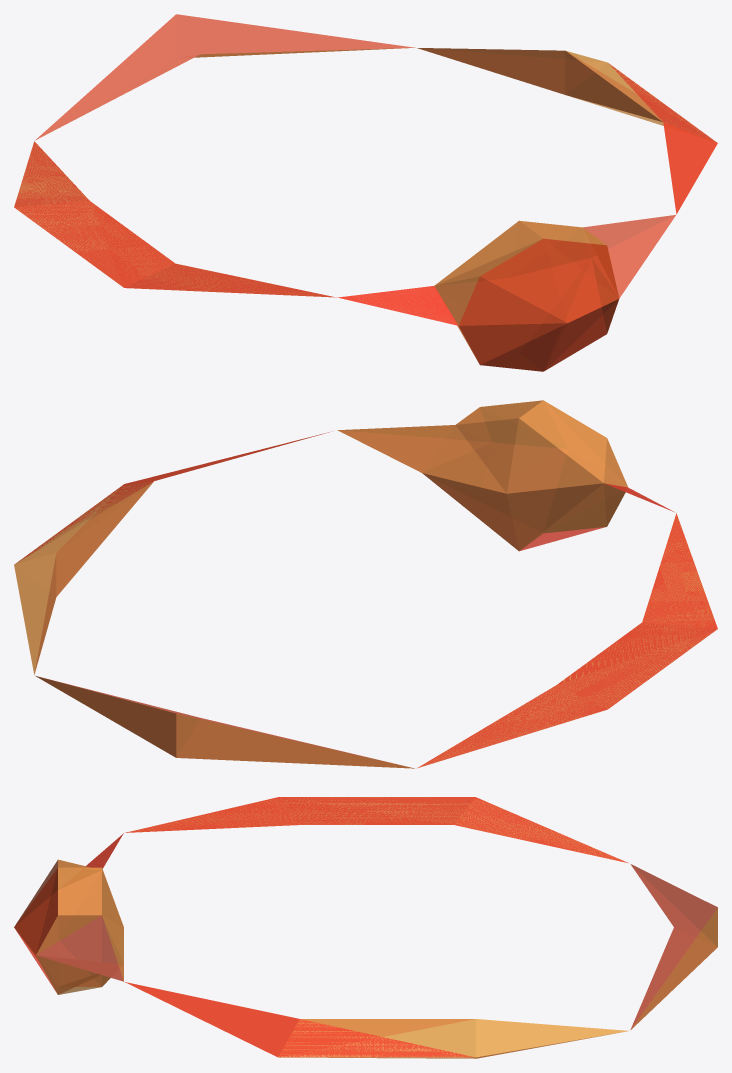
3 views of the same model, one above another, from view 1: azimuth 30°, elevation 25°; view 2: azimuth 150°, elevation 25°; view 3: azimuth 270°, elevation 25° (orthographic). The views are drawn at different scales.
Size of the model in its own units: 28 by 6 by 32.
1 material, 1 textured.
